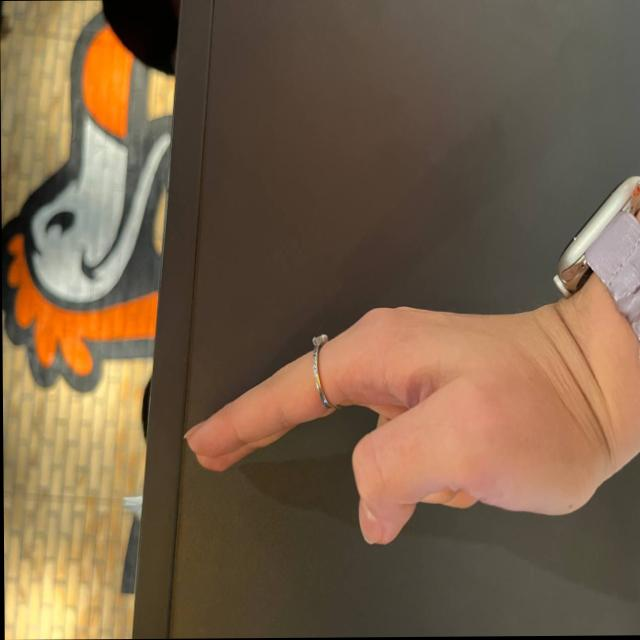d: (140, 263, 538, 566)
